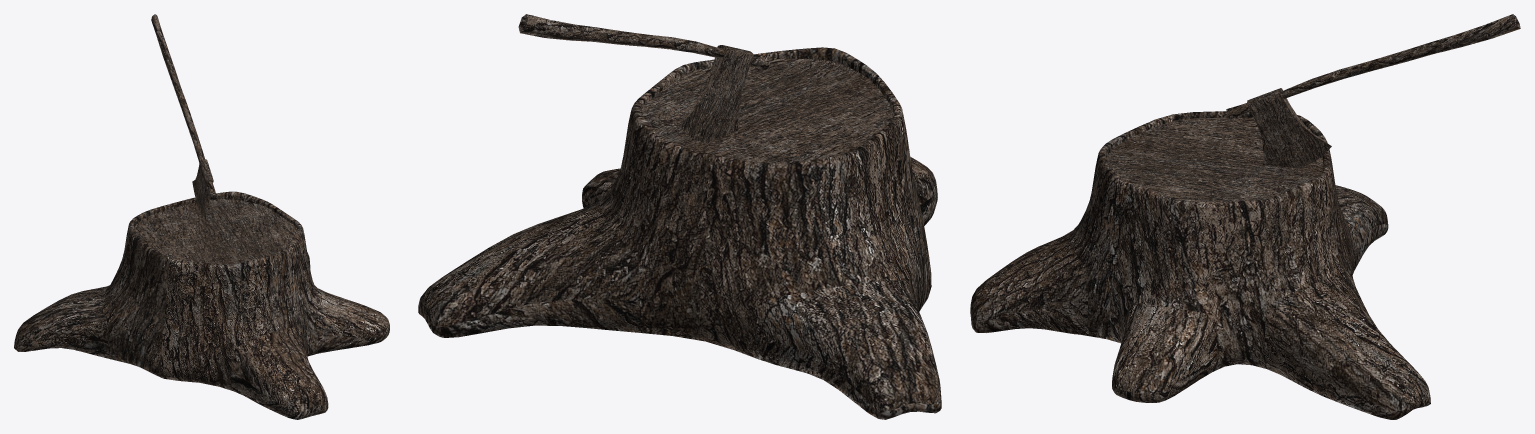
File: troncoConHacha.fbx
3 views of the same model, side by side, from view 1: azimuth 30°, elevation 25°; view 2: azimuth 150°, elevation 25°; view 3: azimuth 270°, elevation 25° (orthographic). The views are drawn at different scales.
Parts seen in each view (by area): view 1: Object_60; view 2: Object_60; view 3: Object_60.
Part boxes in pixels (x1,y1,x2,y2): Object_60: (14,14,389,419); Object_60: (418,14,941,419); Object_60: (970,14,1520,419).
Bounding box in the file's own units: 140 × 108 × 160.
Materials: 4 (4 with a texture image).
